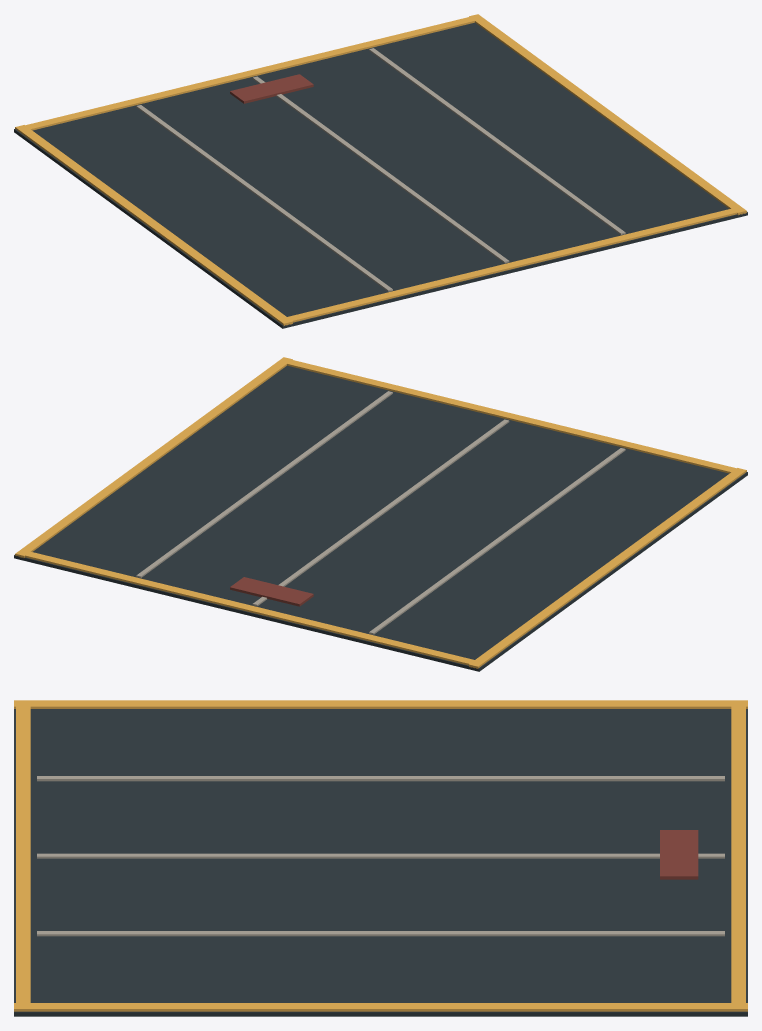
File: VIC_S03_ELECTRIC_FLOOR_Roblox.fbx
3 renders of one model, top to bottom at view 1: azimuth 30°, elevation 25°; view 2: azimuth 150°, elevation 25°; view 3: azimuth 270°, elevation 25°, orthographic. The views are drawn at different scales.
Visible parts, largest first — view 1: VIC_S03_ELECTRIC_FLOOR__Charcoal, VIC_S03_ELECTRIC_FLOOR__Amber, VIC_S03_ELECTRIC_FLOOR__Stone, VIC_S03_ELECTRIC_FLOOR__Oxblood; view 2: VIC_S03_ELECTRIC_FLOOR__Charcoal, VIC_S03_ELECTRIC_FLOOR__Amber, VIC_S03_ELECTRIC_FLOOR__Stone, VIC_S03_ELECTRIC_FLOOR__Oxblood; view 3: VIC_S03_ELECTRIC_FLOOR__Charcoal, VIC_S03_ELECTRIC_FLOOR__Amber, VIC_S03_ELECTRIC_FLOOR__Stone, VIC_S03_ELECTRIC_FLOOR__Oxblood.
Part boxes in pixels (<box>): VIC_S03_ELECTRIC_FLOOR__Charcoal: <box>14,22,747,328</box>; VIC_S03_ELECTRIC_FLOOR__Amber: <box>15,14,746,325</box>; VIC_S03_ELECTRIC_FLOOR__Stone: <box>136,48,625,291</box>; VIC_S03_ELECTRIC_FLOOR__Oxblood: <box>230,74,313,103</box>; VIC_S03_ELECTRIC_FLOOR__Charcoal: <box>14,365,747,671</box>; VIC_S03_ELECTRIC_FLOOR__Amber: <box>15,357,746,668</box>; VIC_S03_ELECTRIC_FLOOR__Stone: <box>136,391,625,634</box>; VIC_S03_ELECTRIC_FLOOR__Oxblood: <box>230,577,313,606</box>; VIC_S03_ELECTRIC_FLOOR__Charcoal: <box>14,709,747,1016</box>; VIC_S03_ELECTRIC_FLOOR__Amber: <box>14,700,747,1011</box>; VIC_S03_ELECTRIC_FLOOR__Stone: <box>37,776,724,936</box>; VIC_S03_ELECTRIC_FLOOR__Oxblood: <box>660,830,698,879</box>.
Size of the model in its own units: 8 by 0.1 by 8.
